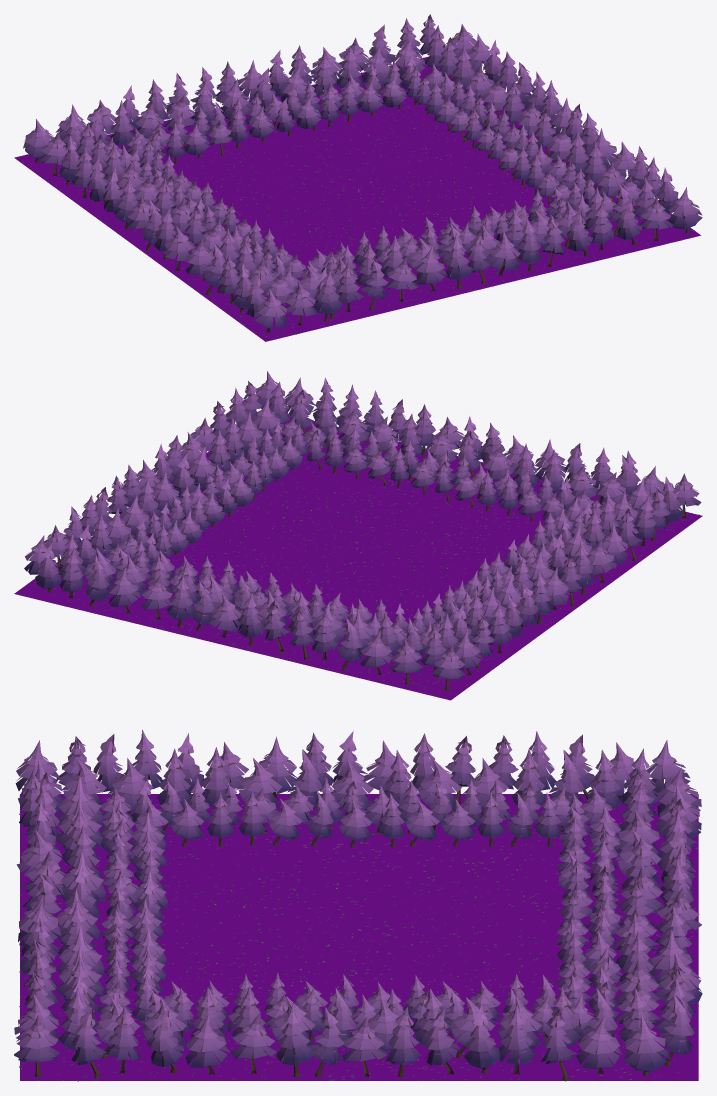
File: Map_Proto.fbx
The picture shows the model from 3 angles, top to bottom: view 1: azimuth 30°, elevation 25°; view 2: azimuth 150°, elevation 25°; view 3: azimuth 270°, elevation 25°; orthographic projection. The views are drawn at different scales.
Parts seen in each view (by area): view 1: Plane; view 2: Plane; view 3: Plane.
Boxes of the visible parts, x1,y1,x2,y2 form: Plane: (14,14,702,341); Plane: (14,371,702,700); Plane: (14,730,702,1081).
Size of the model in its own units: 11646 by 1314 by 11434.
